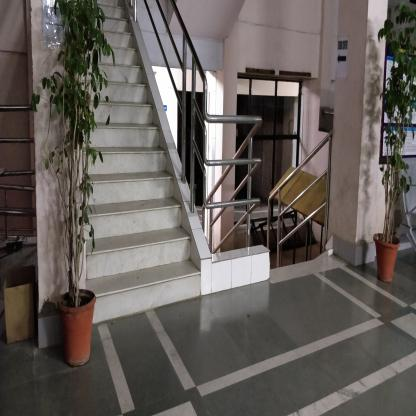stairs: (99, 58, 136, 326)
